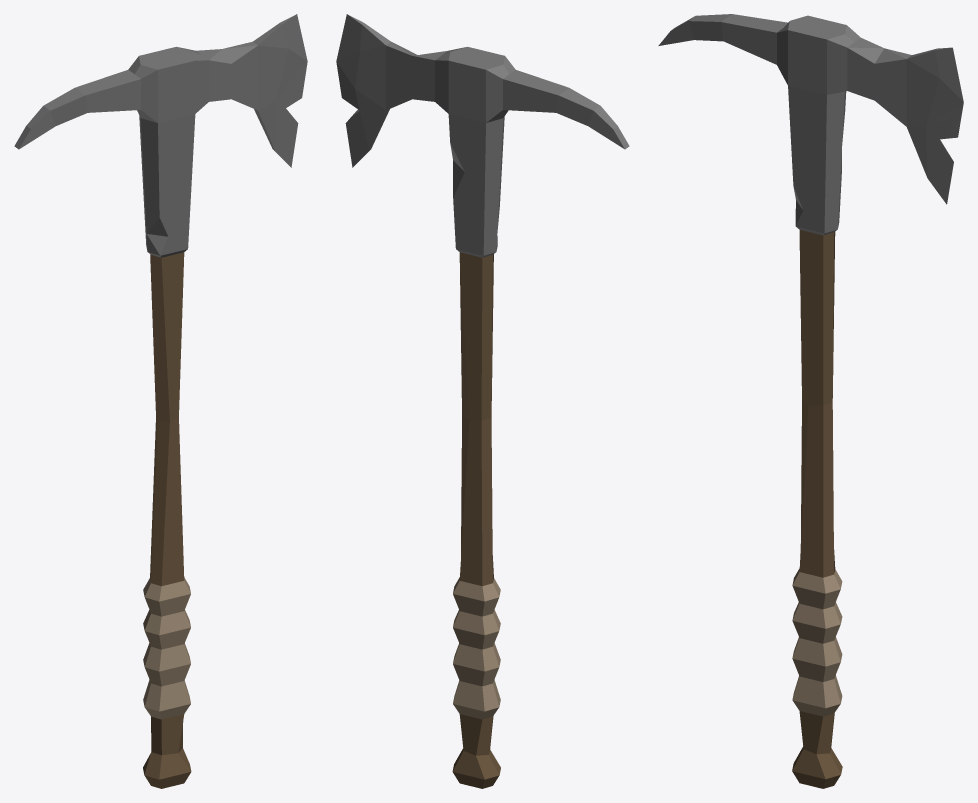
The model's file is SM_Wep_Axe_01.glb.
The picture shows the model from 3 angles, left to right: view 1: azimuth 30°, elevation 25°; view 2: azimuth 150°, elevation 25°; view 3: azimuth 330°, elevation 25°; orthographic projection. The views are drawn at different scales.
Visible parts, largest first — view 1: SM_Wep_Axe_01; view 2: SM_Wep_Axe_01; view 3: SM_Wep_Axe_01.
Boxes of the visible parts, left/top/right/bottom form: SM_Wep_Axe_01: left=14, top=14, right=307, bottom=788; SM_Wep_Axe_01: left=336, top=14, right=629, bottom=788; SM_Wep_Axe_01: left=658, top=14, right=963, bottom=788.
Bounding box in the file's own units: 0.00483 × 0.0117 × 0.000548.
